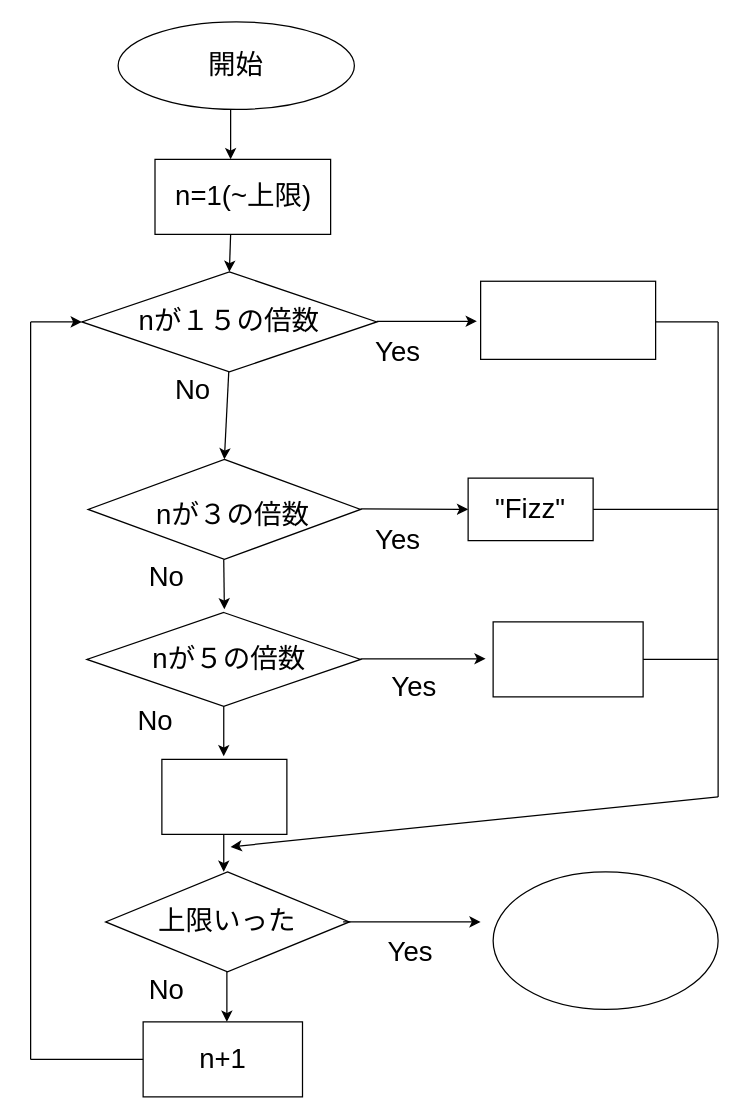
The diagram is 750 pixels wide and 1119 high, and some of its shapes have lost their labels. Each missing label, with the centre of its shape:
"Buzz": pixel 567 659
"FizzBuzz": pixel 567 319
"n": pixel 224 796
終了: pixel 605 940
